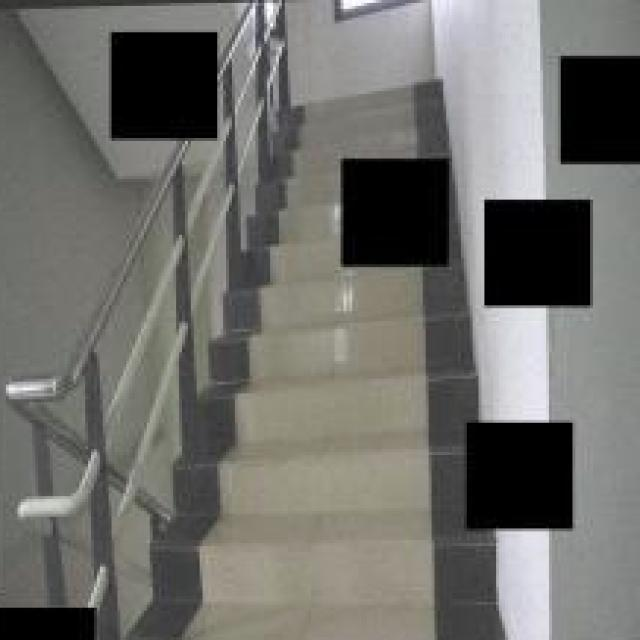upstair: (224, 291, 464, 640)
